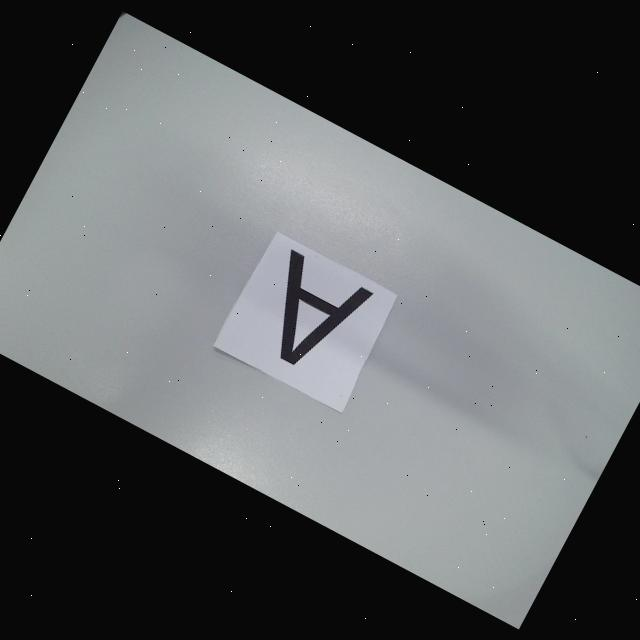FAKE: (242, 248, 373, 382)
